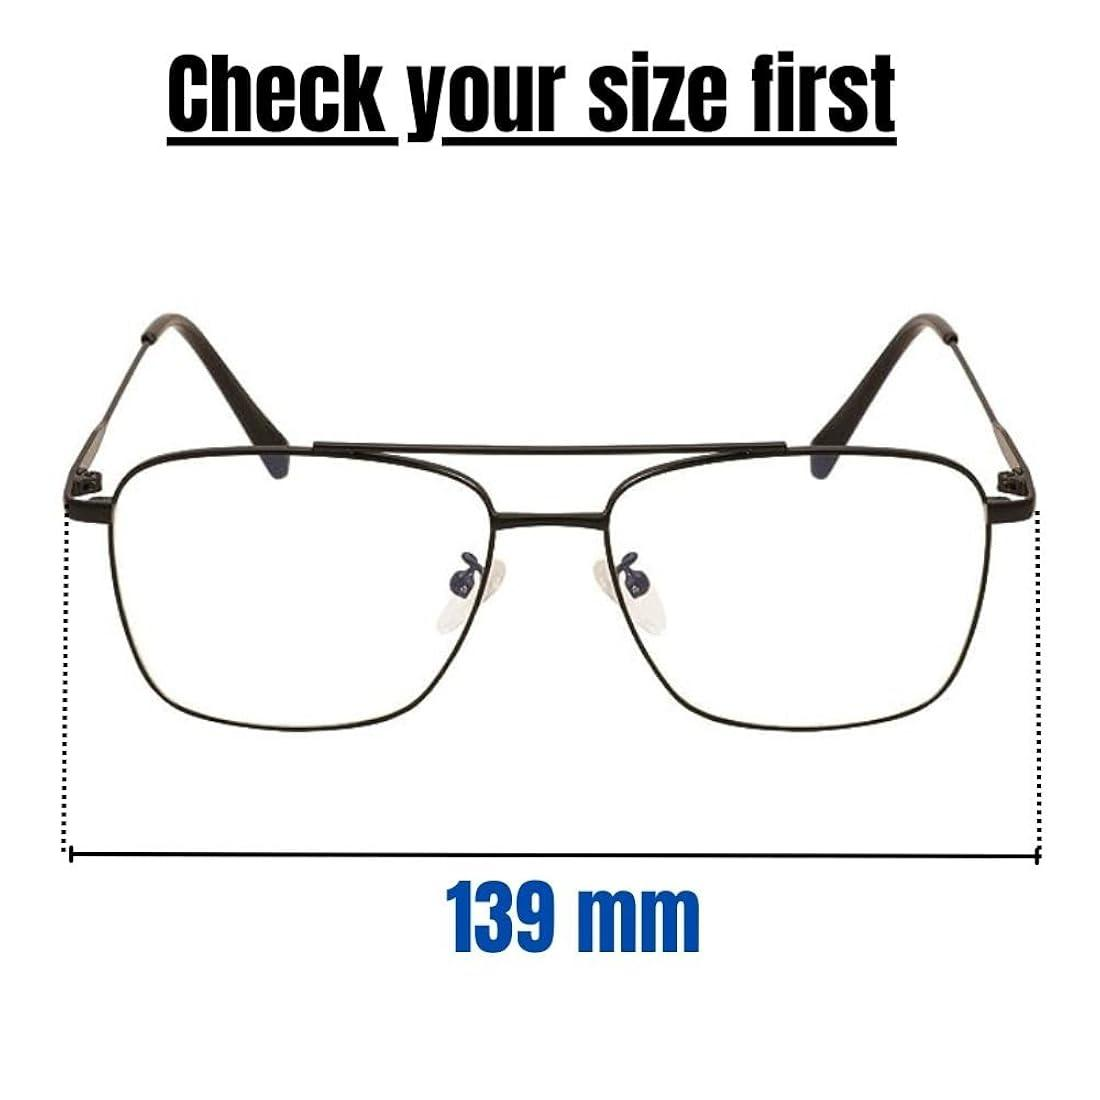spectacles: (25, 298, 1046, 773)
